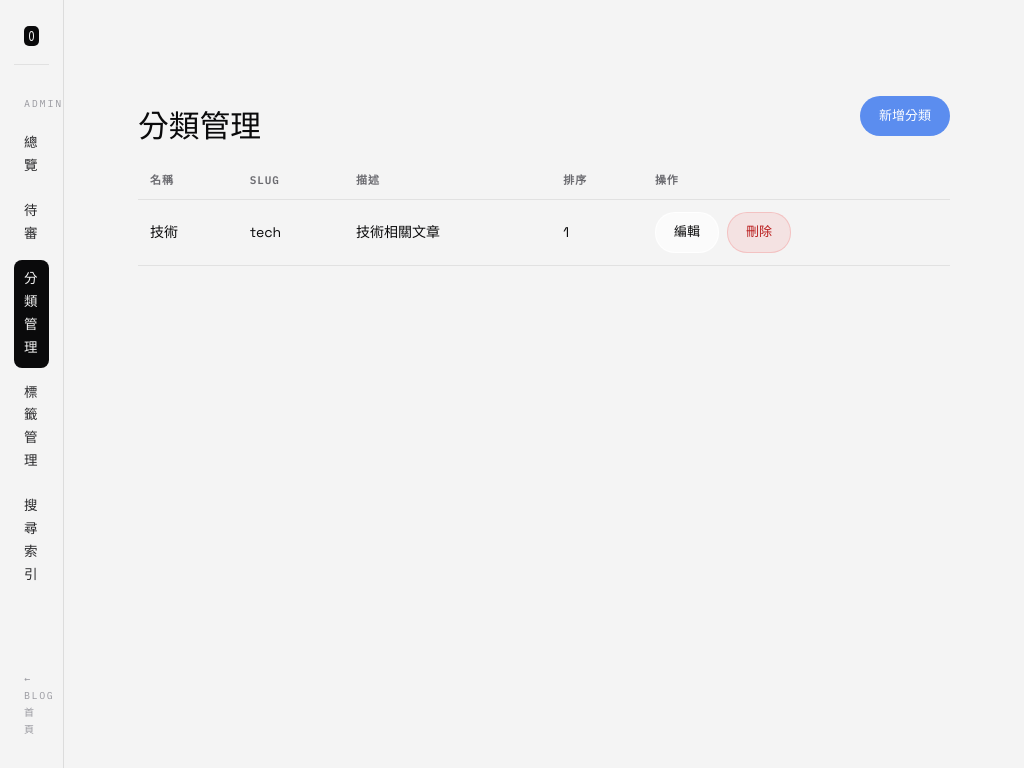
Scenario: AdminCategoriesView › 編輯分類 › 點「編輯」開啟表單並帶入既有值
Click the button with test id "admin-categories-edit-cat-uuid-1" at (687, 233), box [655,212,719,253]
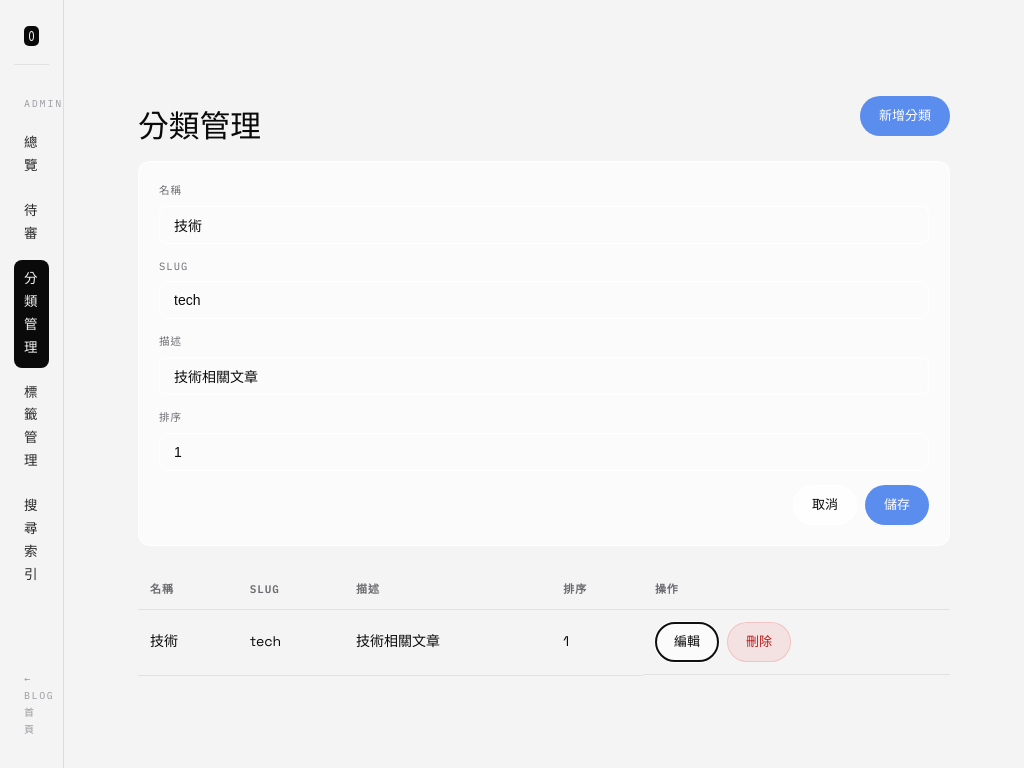
Expected: the field with test id "admin-categories-form-name" holds "技術", [159,206,929,244]
Expected: the field with test id "admin-categories-form-slug" holds "tech", [159,282,929,320]
Expected: the field with test id "admin-categories-form-description" holds "技術相關文章", [159,357,929,395]
